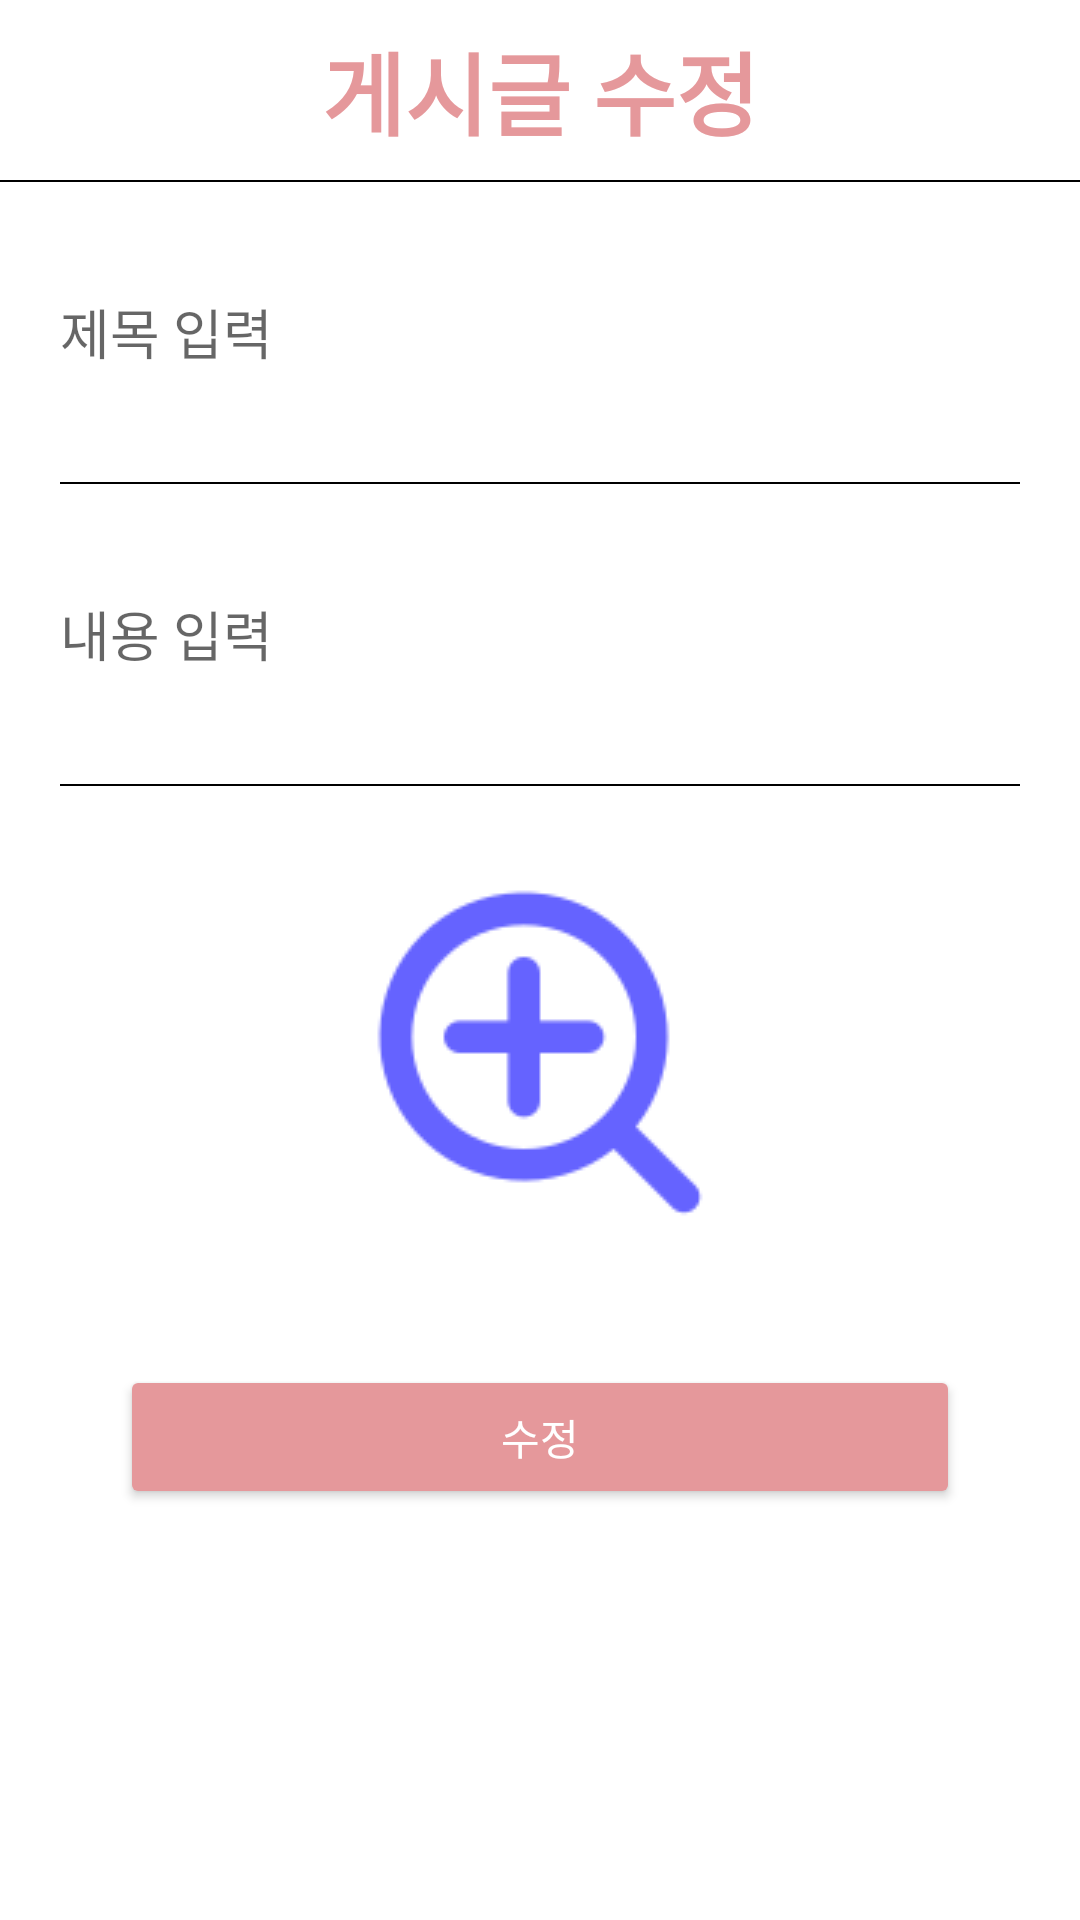

Named icons in this screenshot (1080w x 1920h) and their bounding boxes, (x1, y1, x2, y2):
plus: (378, 891, 702, 1213)
